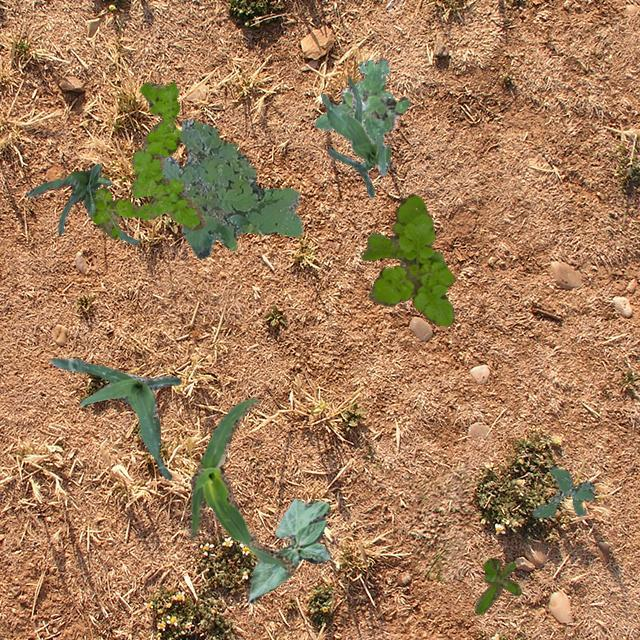crop: (188, 397, 294, 572), (49, 357, 180, 478), (24, 162, 138, 244), (246, 498, 330, 602), (320, 74, 390, 198)
weed: (160, 118, 302, 258), (91, 80, 206, 238), (361, 192, 454, 324), (314, 58, 408, 140), (530, 464, 594, 516), (474, 558, 520, 614), (354, 59, 394, 100)
